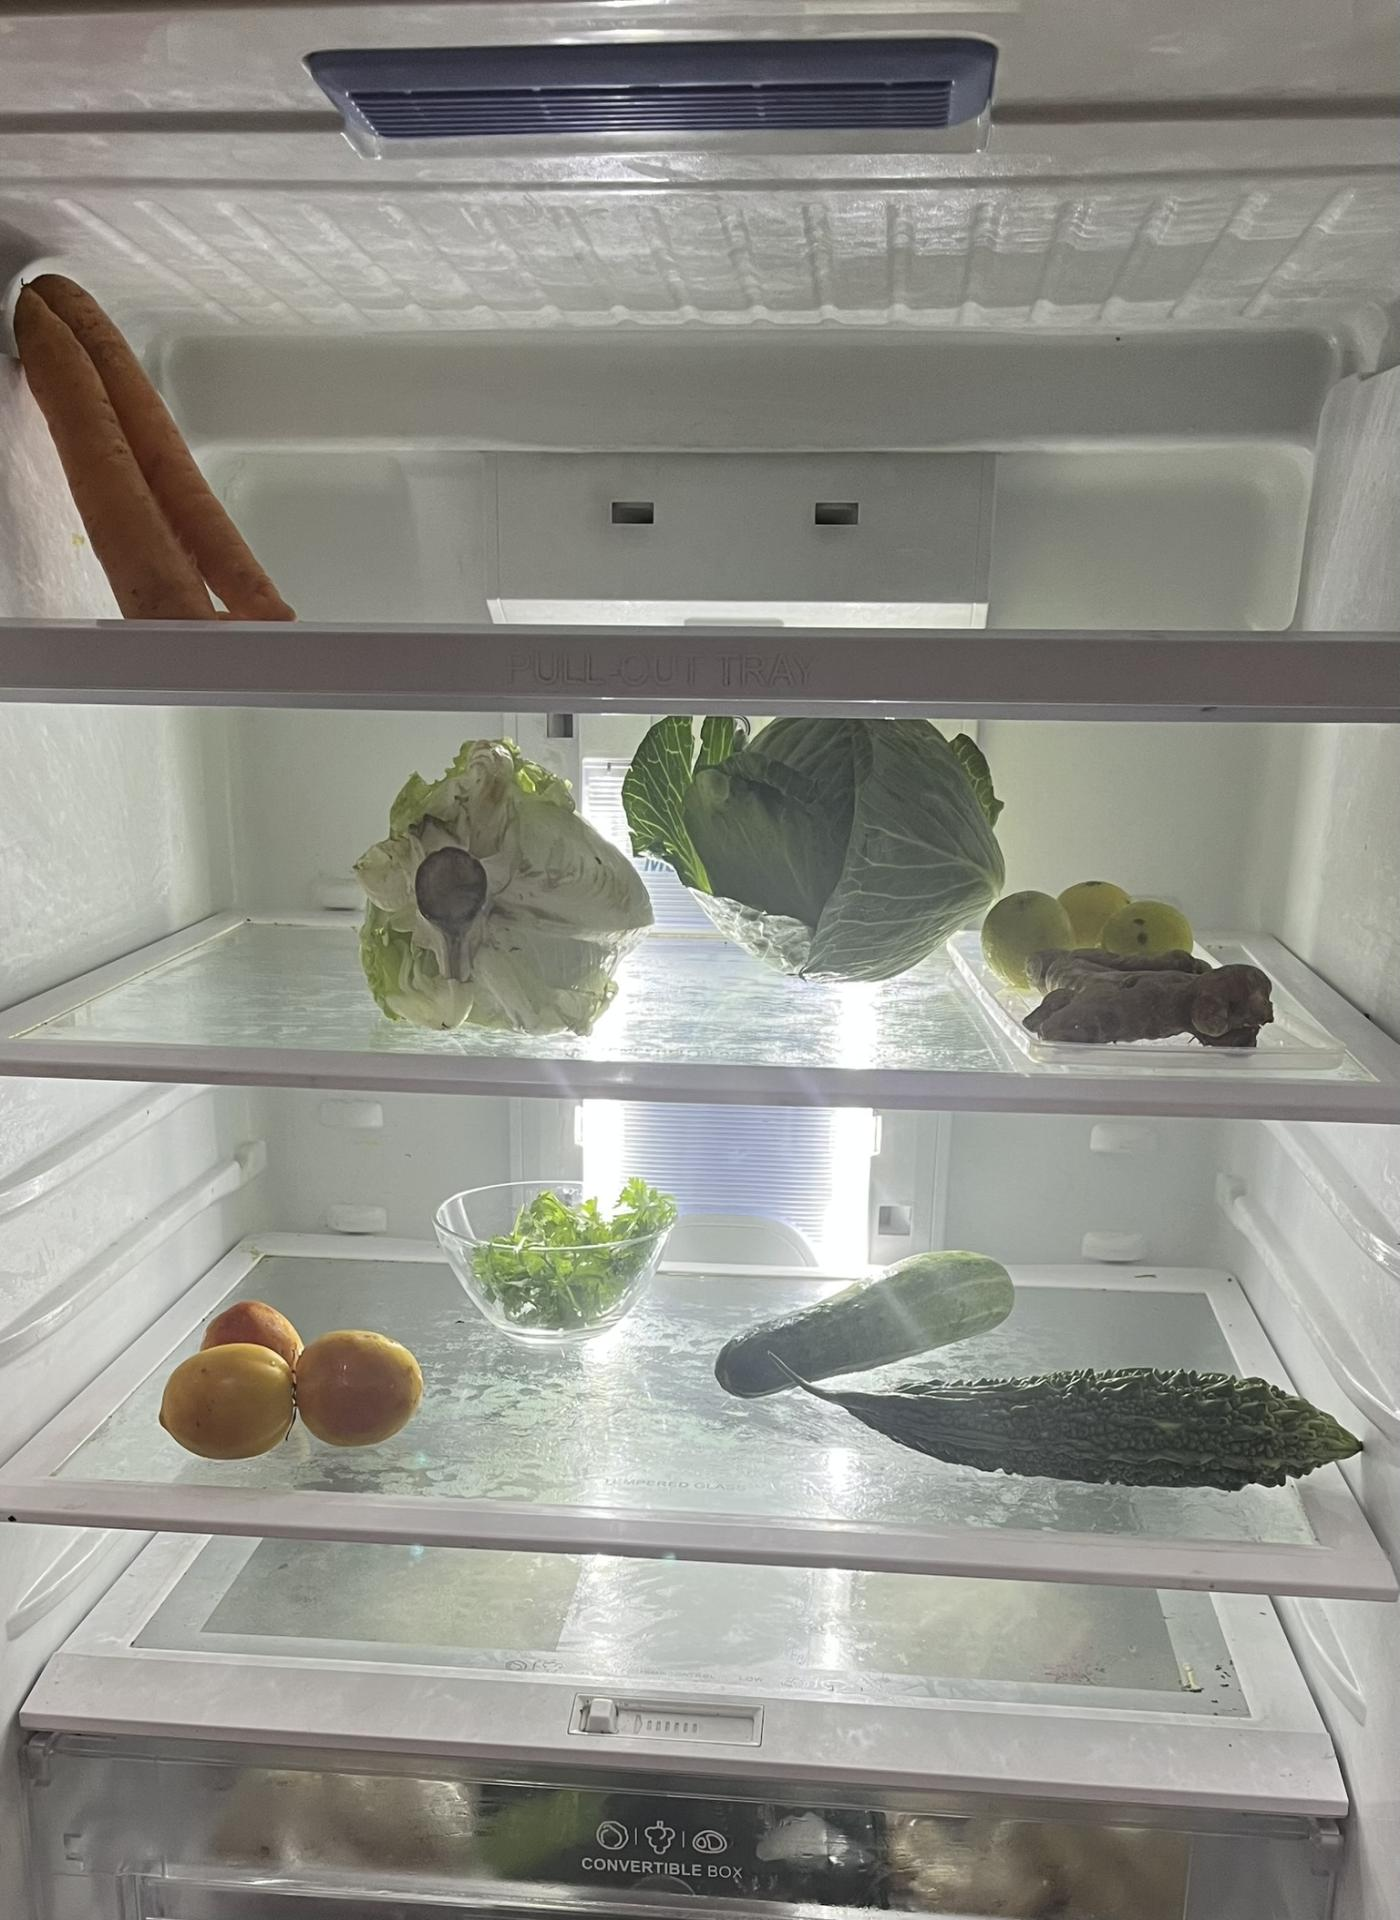bitter gourd: (799, 1371, 1378, 1488)
cabbage: (628, 707, 1005, 985)
carrots: (12, 270, 295, 617)
coriander: (446, 1166, 675, 1333)
cucumber: (714, 1249, 1020, 1397)
ginger: (1026, 957, 1285, 1046)
lemon: (991, 882, 1193, 973)
lettuce: (356, 735, 655, 1045)
tomato: (158, 1306, 416, 1458)
